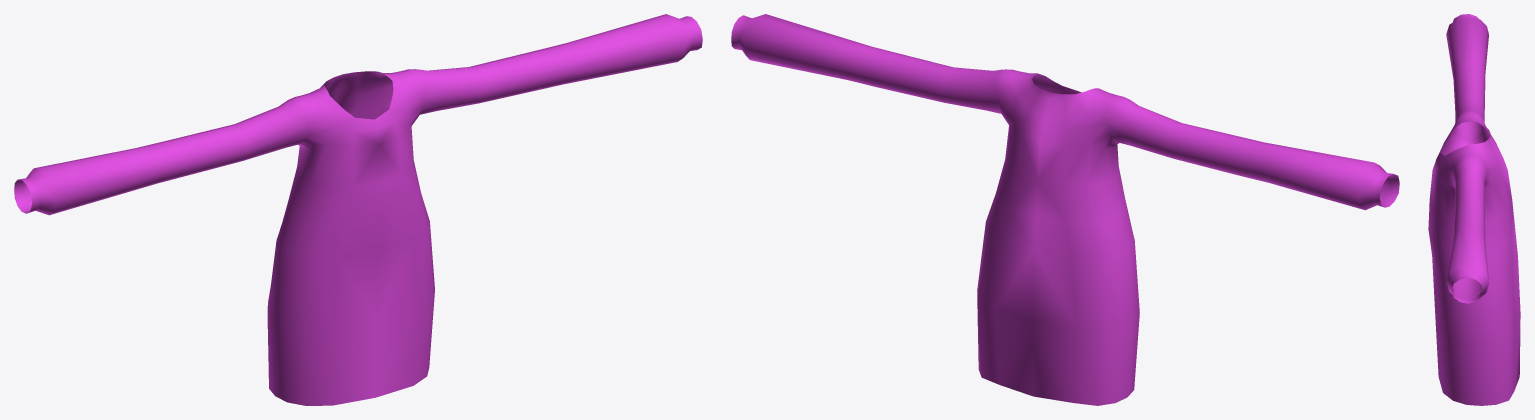
The model's file is Cat_Dress.fbx.
The picture shows the model from 3 angles, left to right: view 1: azimuth 30°, elevation 25°; view 2: azimuth 150°, elevation 25°; view 3: azimuth 270°, elevation 25°; orthographic projection. The views are drawn at different scales.
Parts seen in each view (by area): view 1: Body_Cat.001; view 2: Body_Cat.001; view 3: Body_Cat.001.
Boxes of the visible parts, x1,y1,x2,y2 form: Body_Cat.001: (14, 14, 702, 405); Body_Cat.001: (731, 14, 1399, 405); Body_Cat.001: (1428, 14, 1520, 405).
Size of the model in its own units: 1.11 by 0.4778 by 0.1636.
